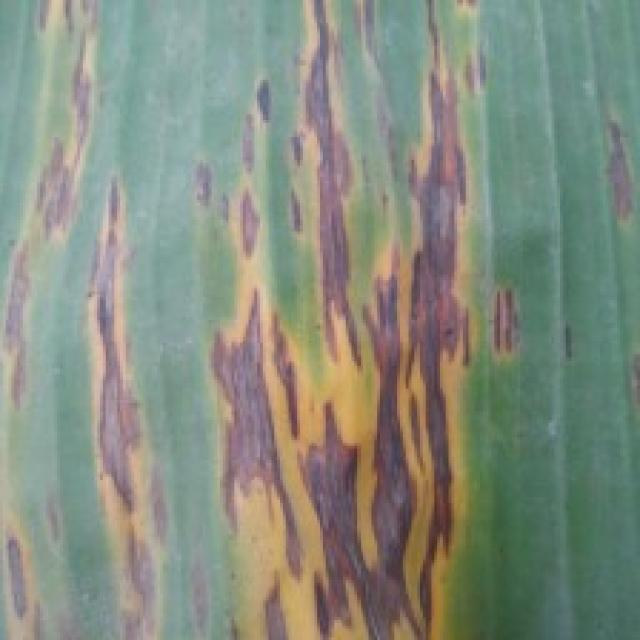Early_leaf_spot: (186, 0, 541, 640), (7, 0, 172, 631), (557, 36, 640, 239)
